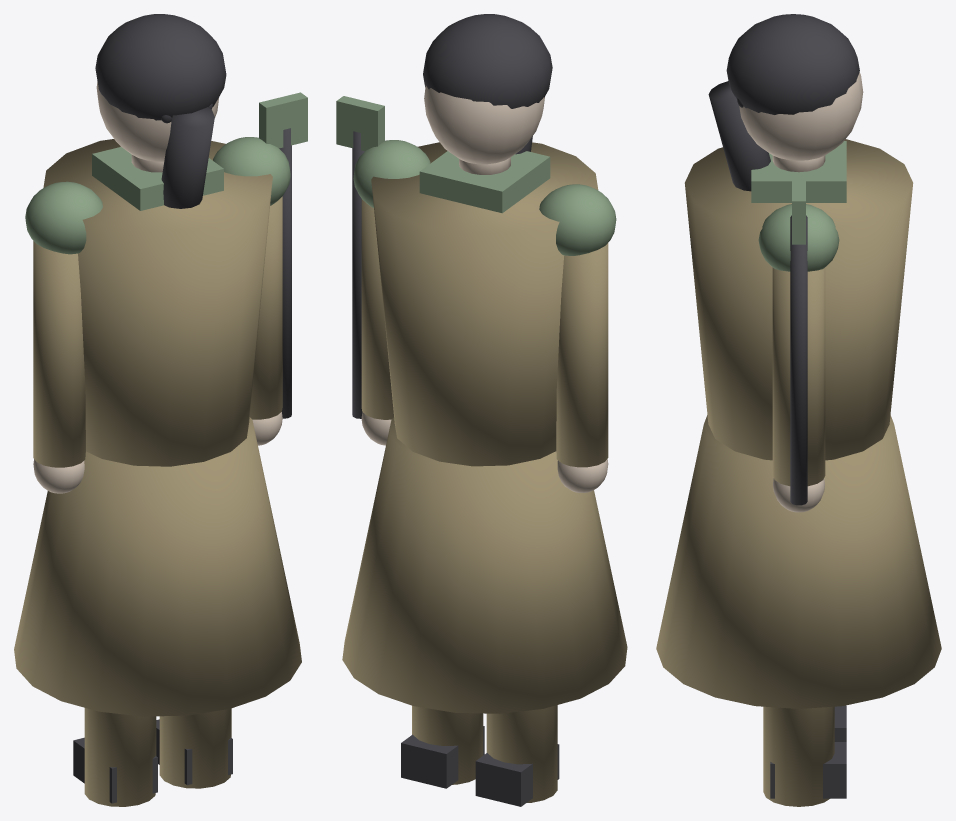
File: zhou-buyi.glb
3 renders of one model, left to right at view 1: azimuth 30°, elevation 25°; view 2: azimuth 150°, elevation 25°; view 3: azimuth 270°, elevation 25°, orthographic.
Visible parts, largest first — view 1: zhou-buyi_robe, zhou-buyi_torso, zhou-buyi_hair, zhou-buyi_arm-0.235, zhou-buyi_leg-0.09, zhou-buyi_arm0.235, zhou-buyi_leg0.09, zhou-buyi_shoulder-0.22, zhou-buyi_pigtail, zhou-buyi_collar, zhou-buyi_shoulder0.22, zhou-buyi_head (+6 smaller); view 2: zhou-buyi_robe, zhou-buyi_torso, zhou-buyi_arm-0.235, zhou-buyi_hair, zhou-buyi_head, zhou-buyi_collar, zhou-buyi_arm0.235, zhou-buyi_leg-0.09, zhou-buyi_shoulder-0.22, zhou-buyi_leg0.09, zhou-buyi_shoulder0.22, zhou-buyi_handle (+6 smaller); view 3: zhou-buyi_robe, zhou-buyi_torso, zhou-buyi_hair, zhou-buyi_arm0.235, zhou-buyi_leg0.09, zhou-buyi_head, zhou-buyi_handle, zhou-buyi_collar, zhou-buyi_shoulder0.22, zhou-buyi_pigtail, zhou-buyi_boot0.09, zhou-buyi_hand0.235 (+2 smaller).
Boxes of the visible parts, x1,y1,x2,y2 form: zhou-buyi_robe: [14, 417, 301, 716]; zhou-buyi_torso: [43, 139, 272, 466]; zhou-buyi_hair: [95, 14, 226, 120]; zhou-buyi_arm-0.235: [33, 241, 85, 467]; zhou-buyi_leg-0.09: [84, 708, 156, 806]; zhou-buyi_arm0.235: [249, 196, 282, 419]; zhou-buyi_leg0.09: [159, 708, 231, 788]; zhou-buyi_shoulder-0.22: [25, 181, 102, 254]; zhou-buyi_pigtail: [161, 107, 214, 208]; zhou-buyi_collar: [92, 147, 223, 210]; zhou-buyi_shoulder0.22: [213, 137, 290, 205]; zhou-buyi_head: [96, 81, 219, 161]; zhou-buyi_robe: [342, 417, 627, 713]; zhou-buyi_torso: [371, 142, 598, 466]; zhou-buyi_arm-0.235: [556, 243, 608, 467]; zhou-buyi_hair: [423, 14, 552, 108]; zhou-buyi_head: [424, 85, 544, 164]; zhou-buyi_collar: [419, 151, 550, 213]; zhou-buyi_arm0.235: [361, 199, 393, 419]; zhou-buyi_leg-0.09: [486, 705, 557, 802]; zhou-buyi_shoulder-0.22: [539, 184, 616, 255]; zhou-buyi_leg0.09: [412, 705, 483, 784]; zhou-buyi_shoulder0.22: [353, 140, 430, 207]; zhou-buyi_handle: [352, 131, 364, 418]; zhou-buyi_robe: [656, 415, 941, 708]; zhou-buyi_torso: [684, 139, 913, 460]; zhou-buyi_hair: [726, 14, 859, 114]; zhou-buyi_arm0.235: [772, 267, 825, 486]; zhou-buyi_leg0.09: [763, 706, 834, 806]; zhou-buyi_head: [739, 72, 863, 160]; zhou-buyi_handle: [790, 215, 807, 505]; zhou-buyi_collar: [751, 141, 846, 202]; zhou-buyi_shoulder0.22: [758, 204, 839, 271]; zhou-buyi_pigtail: [708, 81, 770, 191]; zhou-buyi_boot0.09: [770, 742, 846, 798]; zhou-buyi_hand0.235: [773, 478, 824, 512].
Bounding box in the file's own units: 0.655 × 1.74 × 0.6.
